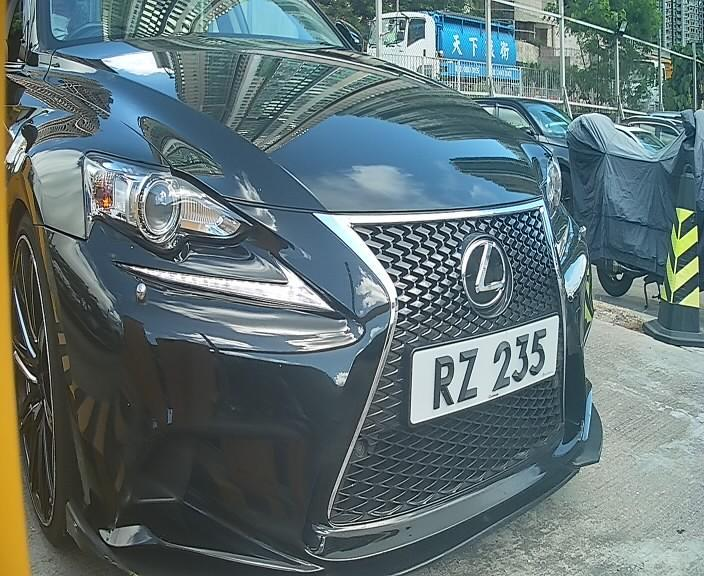Car: (29, 29, 626, 541)
License Plate: (406, 312, 557, 420)
